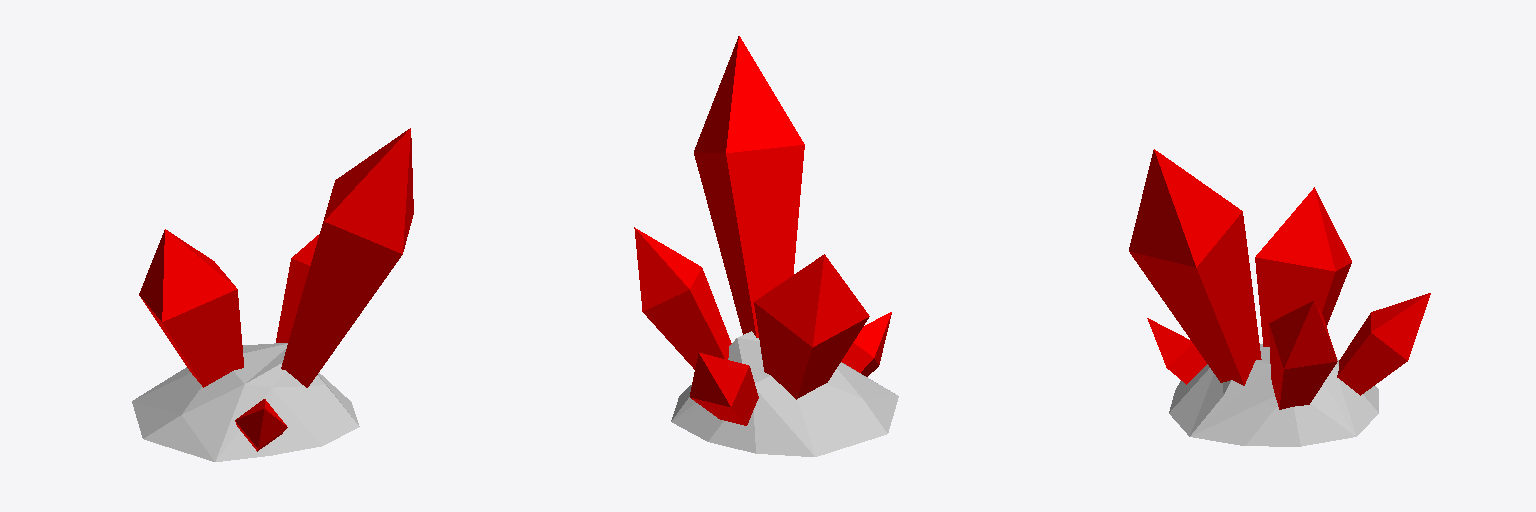
File: WorldGen-Crystal.obj
The picture shows the model from 3 angles: view 1: azimuth 30°, elevation 25°; view 2: azimuth 150°, elevation 25°; view 3: azimuth 270°, elevation 25°; orthographic projection.
Visible parts, largest first — view 1: Crystals, Stone; view 2: Crystals, Stone; view 3: Crystals, Stone.
Part boxes in pixels (x1,y1,x2,y2): Crystals: (139,128,413,451); Stone: (132,343,359,461); Crystals: (634,36,891,425); Stone: (671,331,898,456); Crystals: (1129,149,1430,409); Stone: (1169,344,1378,446).
Size of the model in its own units: 0.4493 by 0.5609 by 0.5053.